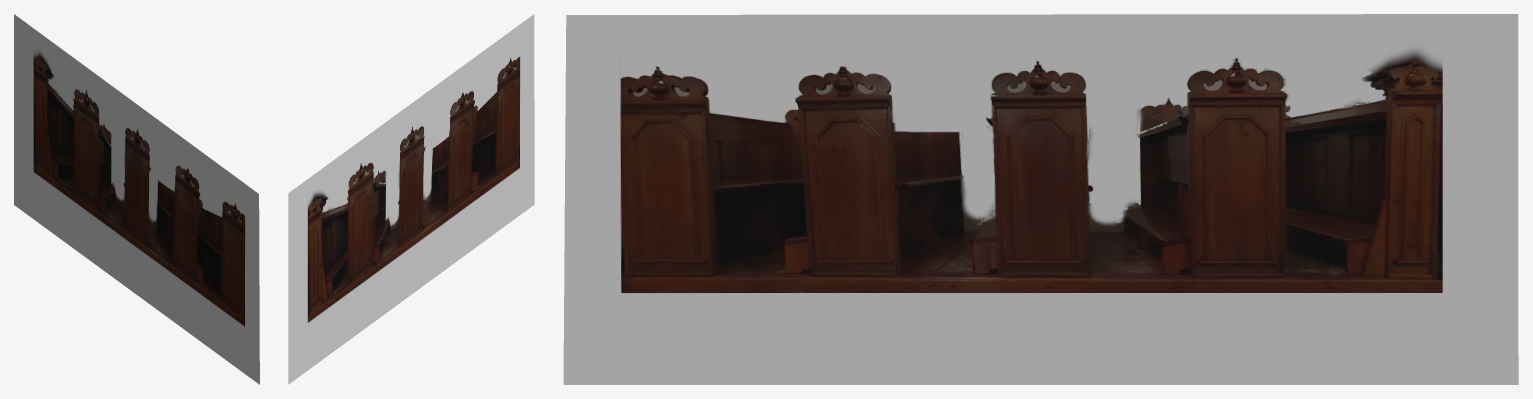
File: 76-77-76. Ławki.glb
The picture shows the model from 3 angles, left to right: view 1: azimuth 30°, elevation 25°; view 2: azimuth 150°, elevation 25°; view 3: azimuth 270°, elevation 25°; orthographic projection. The views are drawn at different scales.
Visible parts, largest first — view 1: Plane; view 2: Plane; view 3: Plane.
Part boxes in pixels (x1,y1,x2,y2): Plane: (14, 14, 259, 384); Plane: (288, 14, 534, 384); Plane: (563, 14, 1518, 384).
Size of the model in its own units: 0.00822 by 12 by 28.
1 material, 1 textured.
